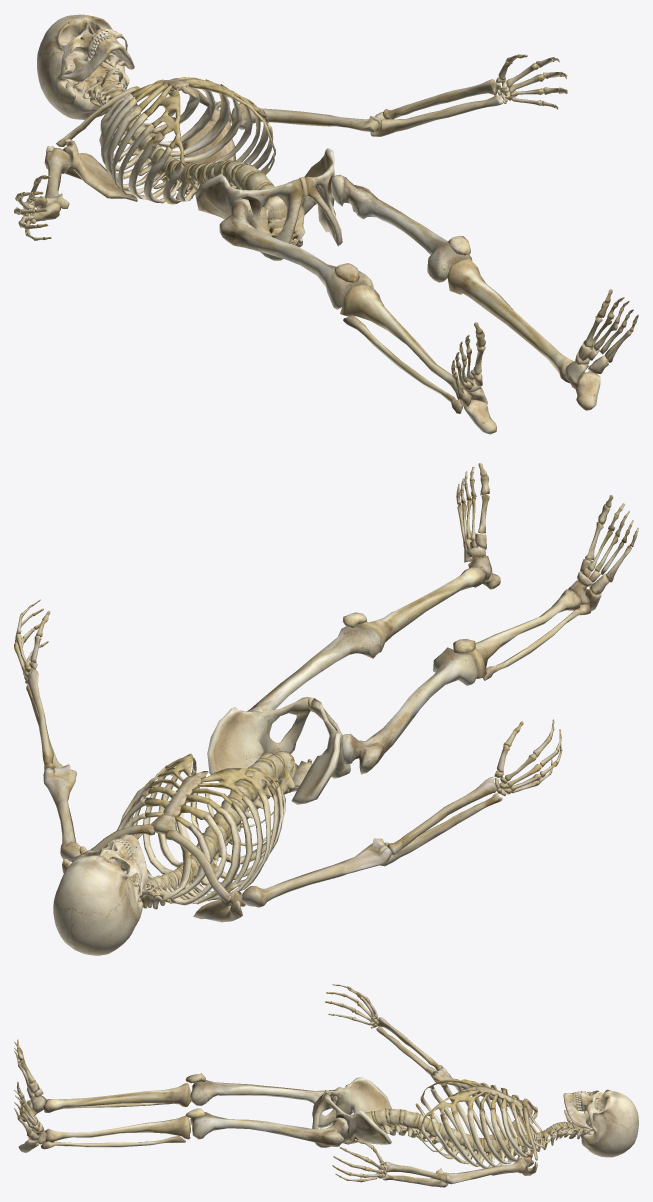
The model's file is MySkeleton.fbx.
The picture shows the model from 3 angles, top to bottom: view 1: azimuth 30°, elevation 25°; view 2: azimuth 150°, elevation 25°; view 3: azimuth 270°, elevation 25°; orthographic projection. The views are drawn at different scales.
Parts seen in each view (by area): view 1: chest, hip, head, rTibia, rFemur, lFemur, lTibia, lFoot, lUlna, rFoot, lHumerus, lHand (+8 smaller); view 2: chest, head, hip, rFemur, rTibia, lFemur, rFoot, lTibia, lFoot, rHumerus, rUlna, spine (+6 smaller); view 3: chest, head, hip, lTibia, lFemur, rTibia, rFemur, spine, lFoot, rUlna, lUlna, lHand (+6 smaller).
Part boxes in pixels (x1,y1,x2,y2): chest: [99, 77, 275, 204]; hip: [195, 148, 342, 260]; head: [37, 14, 129, 119]; rTibia: [334, 263, 463, 413]; rFemur: [219, 198, 373, 309]; lFemur: [331, 174, 472, 282]; lTibia: [447, 235, 585, 383]; lFoot: [565, 289, 638, 410]; lUlna: [370, 79, 503, 136]; rFoot: [451, 322, 496, 434]; lHumerus: [230, 103, 385, 132]; lHand: [496, 54, 567, 109]; chest: [116, 753, 285, 909]; head: [53, 839, 143, 955]; hip: [207, 697, 350, 804]; rFemur: [342, 647, 478, 774]; rTibia: [453, 589, 591, 680]; lFemur: [248, 626, 380, 711]; rFoot: [568, 495, 638, 611]; lTibia: [342, 567, 486, 652]; lFoot: [456, 463, 500, 589]; rHumerus: [242, 838, 391, 907]; rUlna: [380, 776, 502, 866]; spine: [221, 751, 294, 819]; chest: [415, 1079, 544, 1168]; head: [564, 1089, 638, 1157]; hip: [312, 1077, 391, 1147]; lTibia: [41, 1108, 205, 1149]; lFemur: [190, 1112, 348, 1146]; rTibia: [43, 1073, 205, 1112]; rFemur: [190, 1080, 343, 1105]; spine: [364, 1108, 431, 1137]; lFoot: [14, 1081, 47, 1152]; rUlna: [376, 1017, 443, 1084]; lUlna: [383, 1161, 448, 1187]; lHand: [332, 1139, 387, 1182].
Bounding box in the file's own units: 1200 × 332 × 1850.
